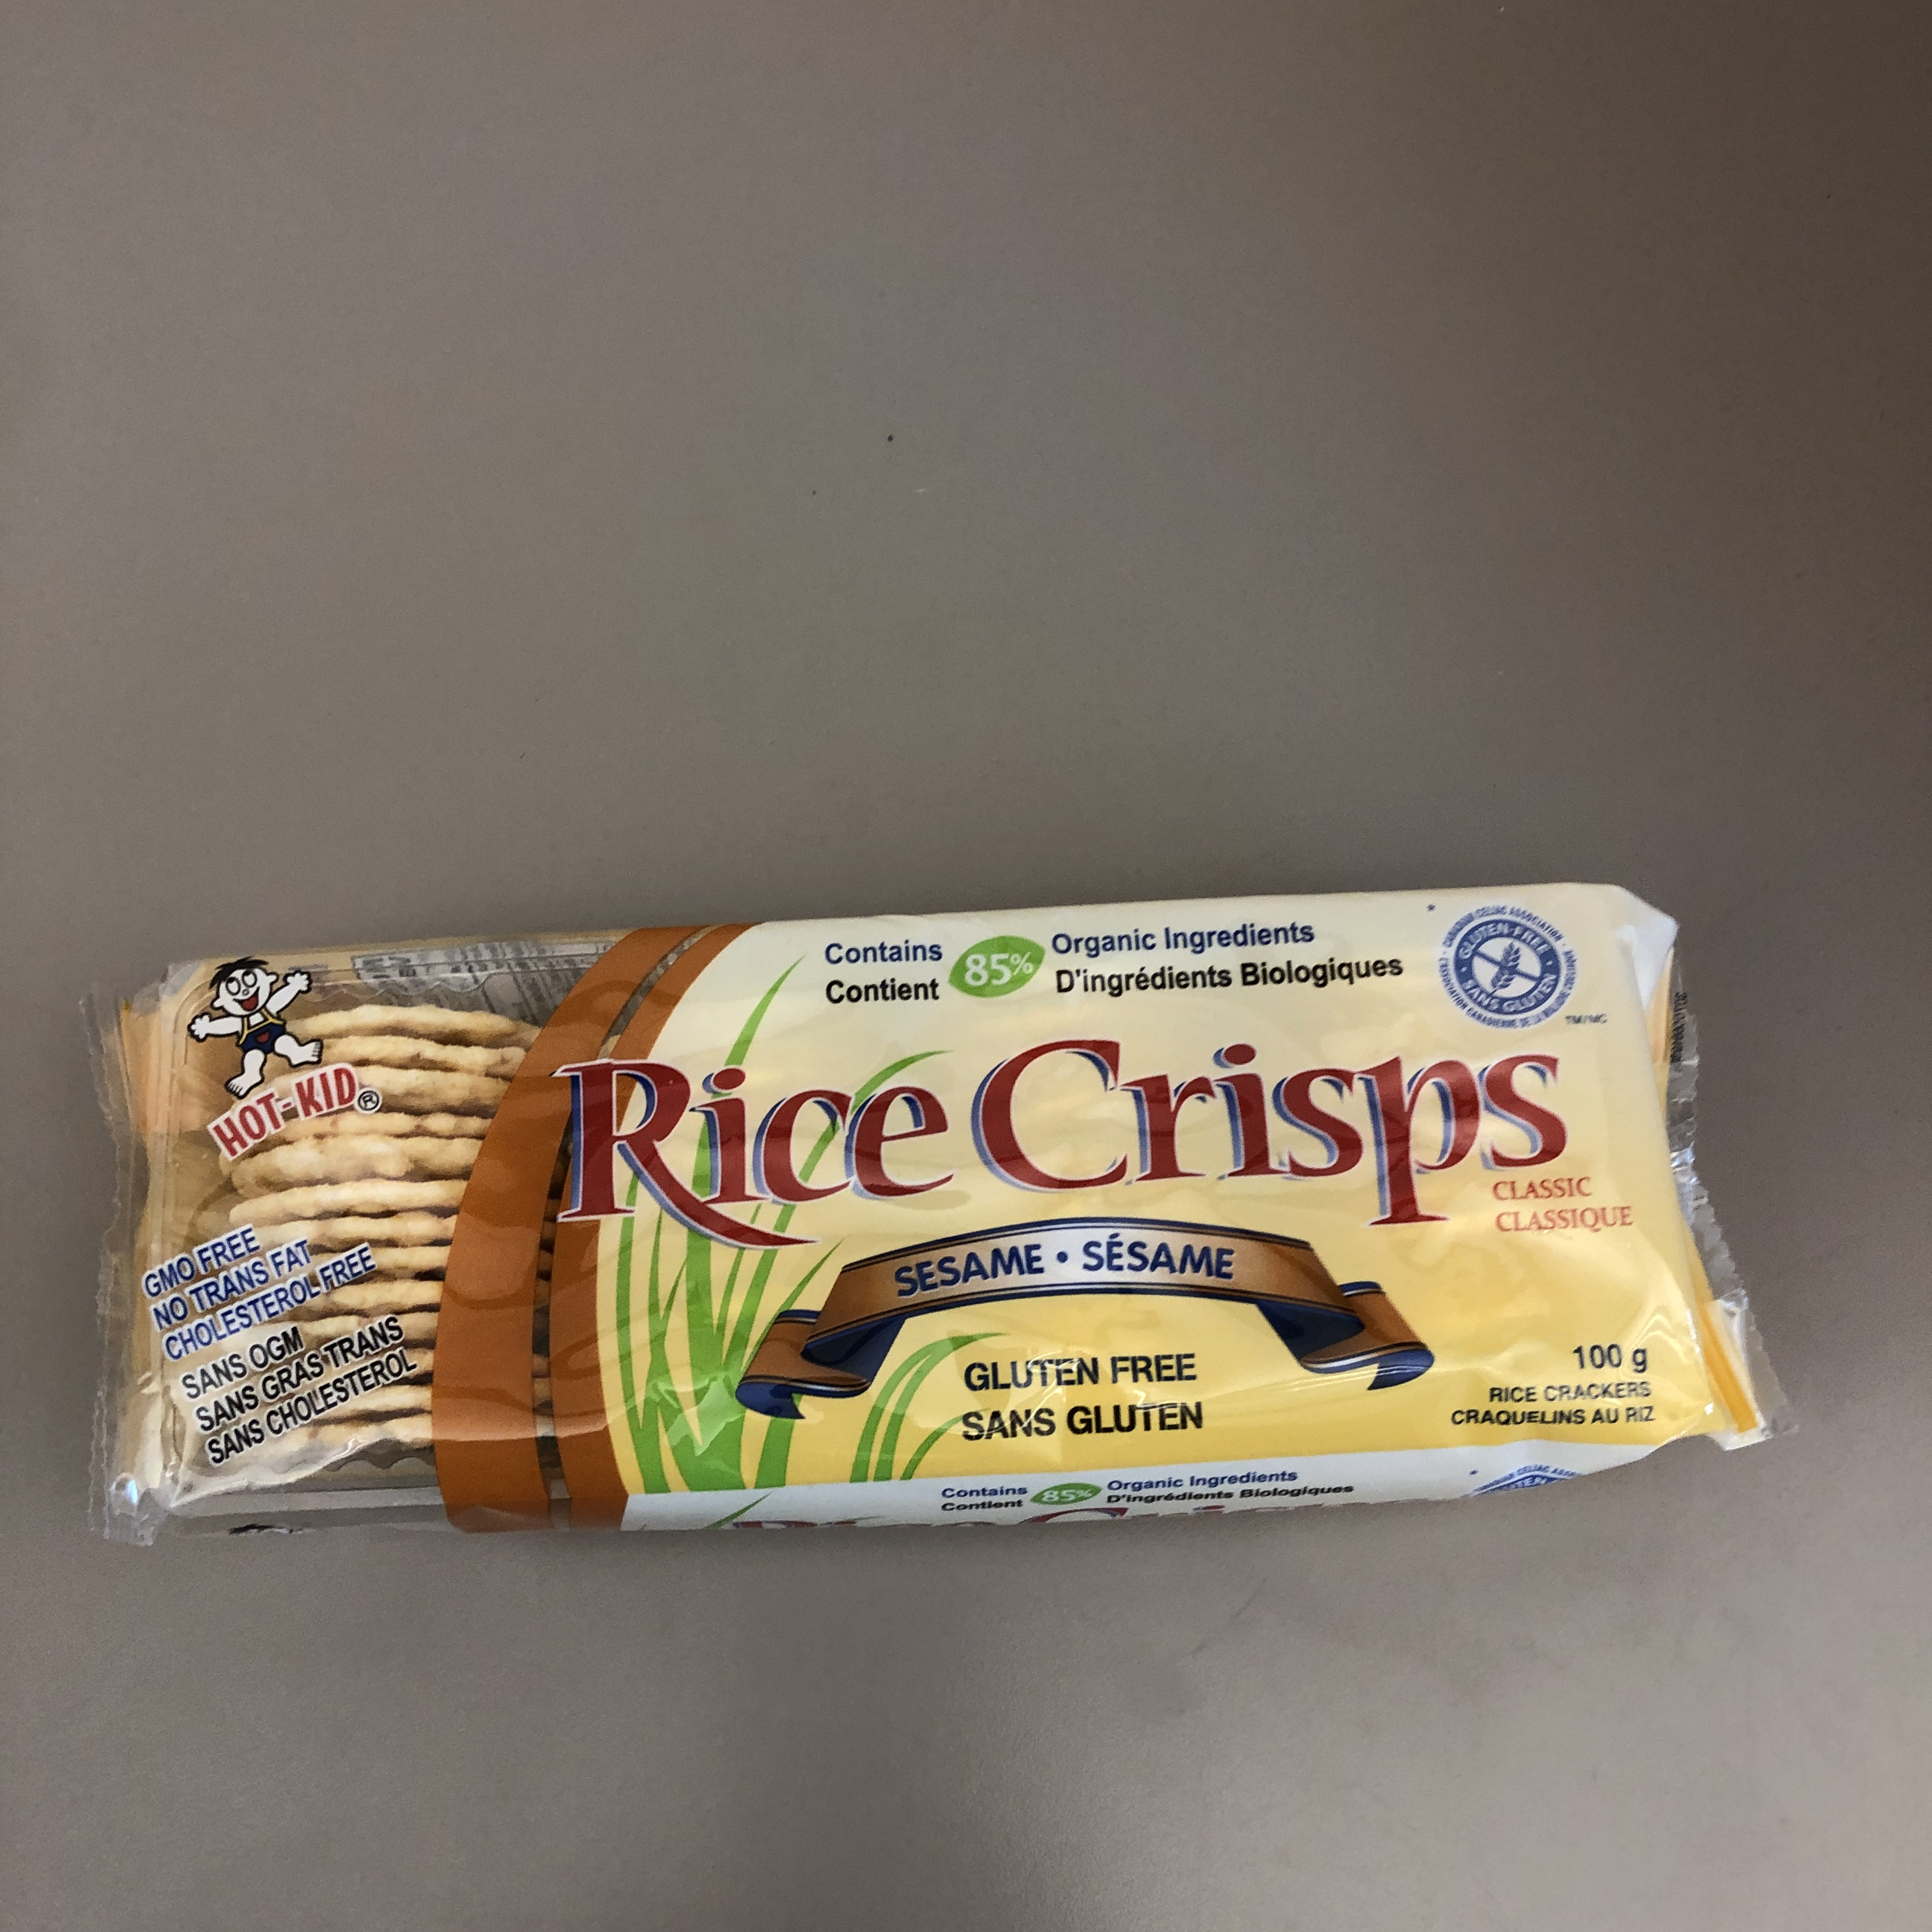hot_kid_rice_crisps_sesame: (880, 246, 1552, 1810)
